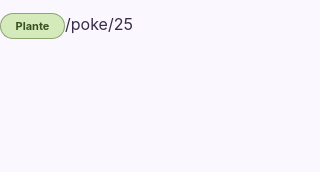
Test: TypeBadge Integration Test Suites › ouvre la page d’accueil filtrée par type au clic
// l’utilisateur clique dessus.
Click the link with aria-label "type Plante".
click(32, 26)  # box x1=0 y1=13 x2=65 y2=39
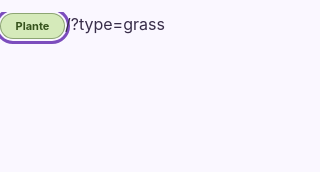
Expected: the text named "Adresse actuelle" reads "/?type=grass", x1=65 y1=14 x2=165 y2=34
